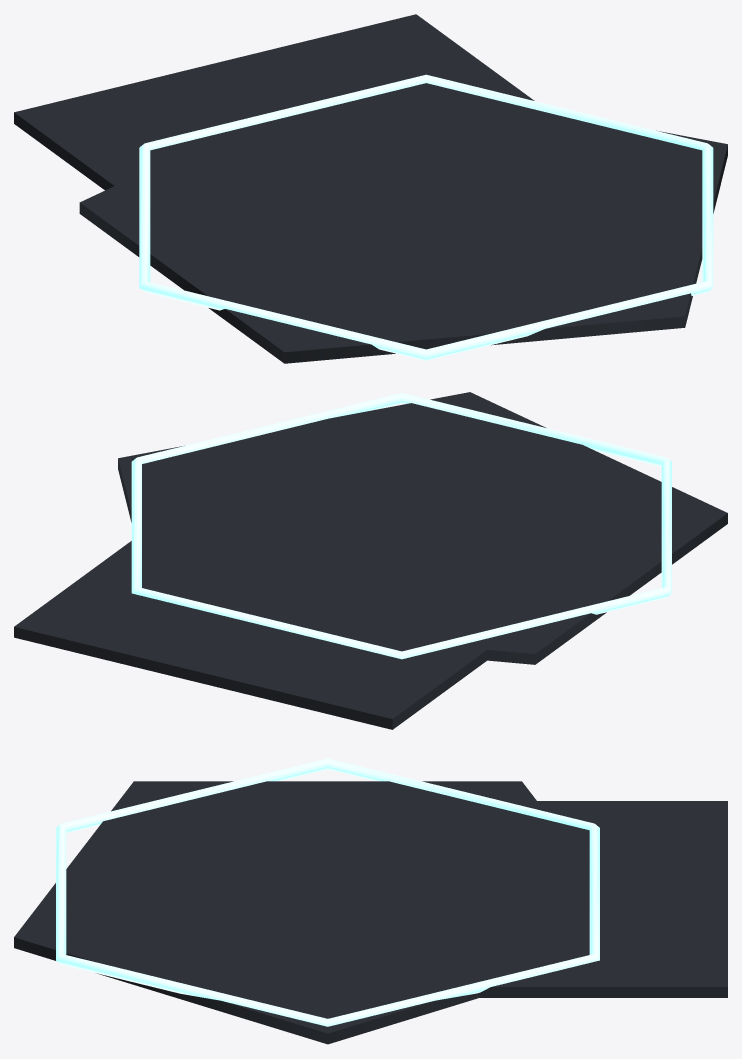
The model's file is road_future_dead_end_lod2.glb.
3 views of the same model, one above another, from view 1: azimuth 30°, elevation 25°; view 2: azimuth 150°, elevation 25°; view 3: azimuth 270°, elevation 25° (orthographic). The views are drawn at different scales.
Visible parts, largest first — view 1: body; view 2: body; view 3: body.
Part boxes in pixels (x1,y1,x2,y2): body: (14,14,727,363); body: (14,392,727,729); body: (14,758,727,1044).
Bounding box in the file's own units: 6.44 × 0.18 × 7.14.
